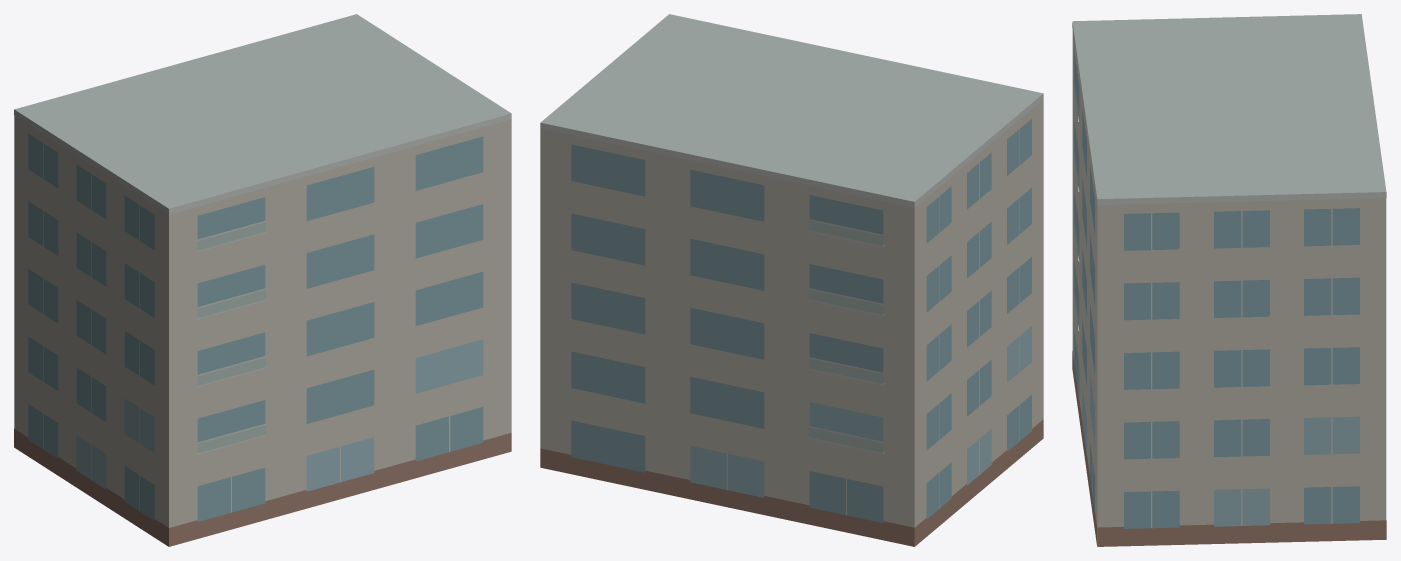
Rendered from survey-upis-32732766.glb.
3 views of the same model, side by side, from view 1: azimuth 30°, elevation 25°; view 2: azimuth 150°, elevation 25°; view 3: azimuth 270°, elevation 25° (orthographic). The views are drawn at different scales.
Visible parts, largest first — view 1: survey-upis-32732766.tmp; view 2: survey-upis-32732766.tmp; view 3: survey-upis-32732766.tmp.
Part boxes in pixels (box(x1,y1,x2,y2)): survey-upis-32732766.tmp: box(14, 14, 511, 546); survey-upis-32732766.tmp: box(540, 14, 1043, 546); survey-upis-32732766.tmp: box(1072, 14, 1386, 546).
Bounding box in the file's own units: 16.23 × 14.2 × 11.63.
